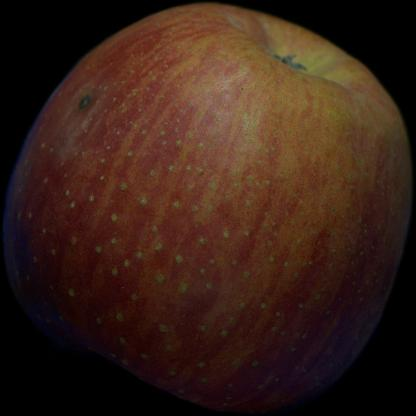defect: (63, 92, 123, 136)
